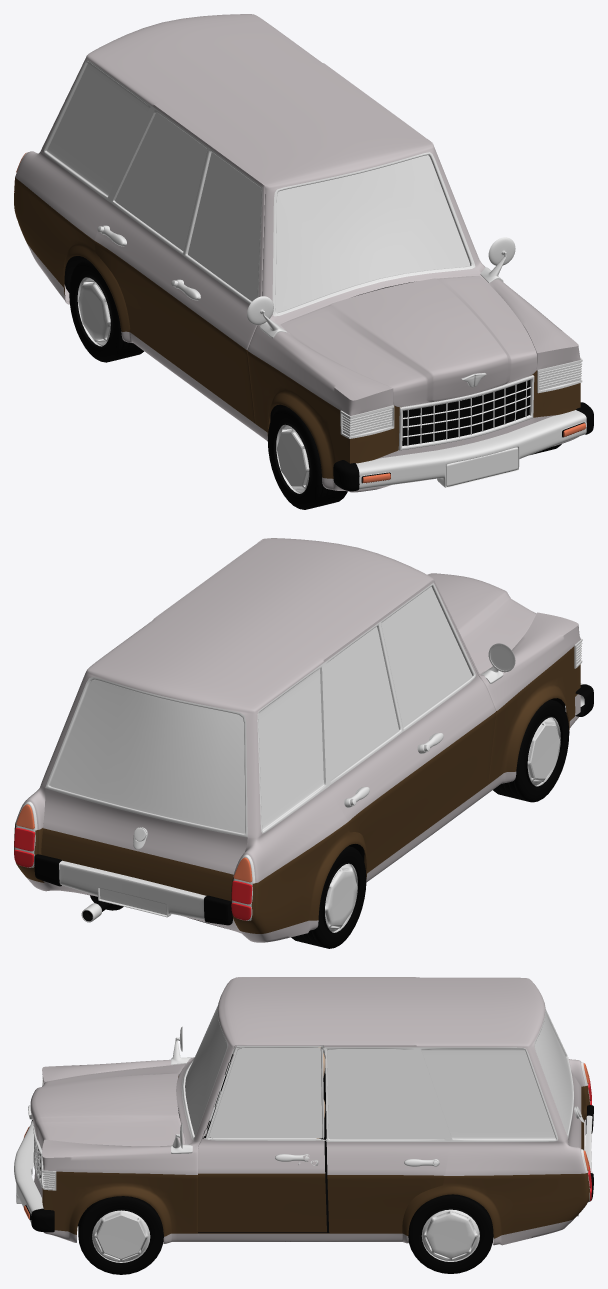
File: CarWithWorkingDoor.fbx
3 views of the same model, one above another, from view 1: azimuth 30°, elevation 25°; view 2: azimuth 150°, elevation 25°; view 3: azimuth 270°, elevation 25° (orthographic). The views are drawn at different scales.
Visible parts, largest first — view 1: chasis, motor, front door, back door, f. bumper, wheel 1, wheel 1.001, radiadotr, glass light, mirror, matricula, ext light; view 2: chasis, door.001, front door, back door, motor, bumper, wheel 1, wheel 1.001, backlihght, mirror, matricula.001; view 3: chasis, front door.002, back door, motor, wheel 1, wheel 1.001, door.001, f. bumper, mirror, interior, bumper.
Part boxes in pixels (x1,y1,x2,y2): chasis: (14,14,580,492); motor: (280,276,536,406); front door: (168,142,432,423); back door: (94,63,324,364); f. bumper: (333,402,593,491); wheel 1: (267,407,561,509); wheel 1.001: (69,259,143,362); radiadotr: (402,381,530,446); glass light: (342,362,582,436); mirror: (247,237,515,338); matricula: (446,447,518,486); ext light: (340,357,582,438); chasis: (14,538,580,942); door.001: (41,677,247,900); front door: (262,538,495,842); back door: (154,617,417,872); motor: (427,573,536,673); bumper: (34,854,232,925); wheel 1: (493,699,569,802); wheel 1.001: (291,846,366,948); backlihght: (14,804,252,920); mirror: (481,643,515,683); matricula.001: (100,888,166,915); chasis: (33,977,590,1245); front door.002: (198,1045,326,1232); back door: (325,977,448,1233); motor: (30,1064,184,1149); wheel 1: (78,1196,163,1274); wheel 1.001: (408,1194,493,1273); door.001: (534,1003,584,1150); f. bumper: (14,1120,54,1232); mirror: (171,1026,192,1153); interior: (178,1054,328,1229); bumper: (585,1105,593,1201).
Size of the model in its own units: 271 by 260 by 618.
